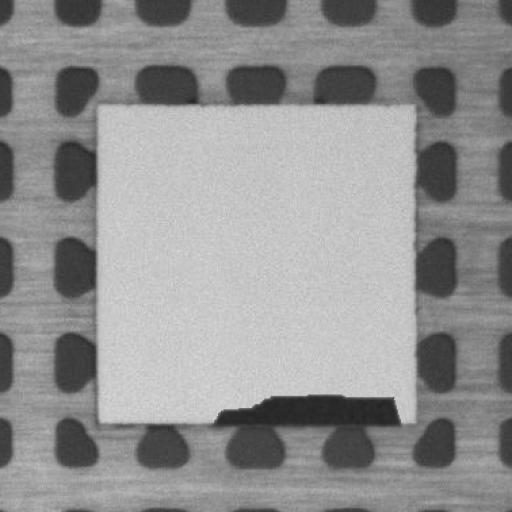DIE_BROKEN: (209, 388, 405, 428)
